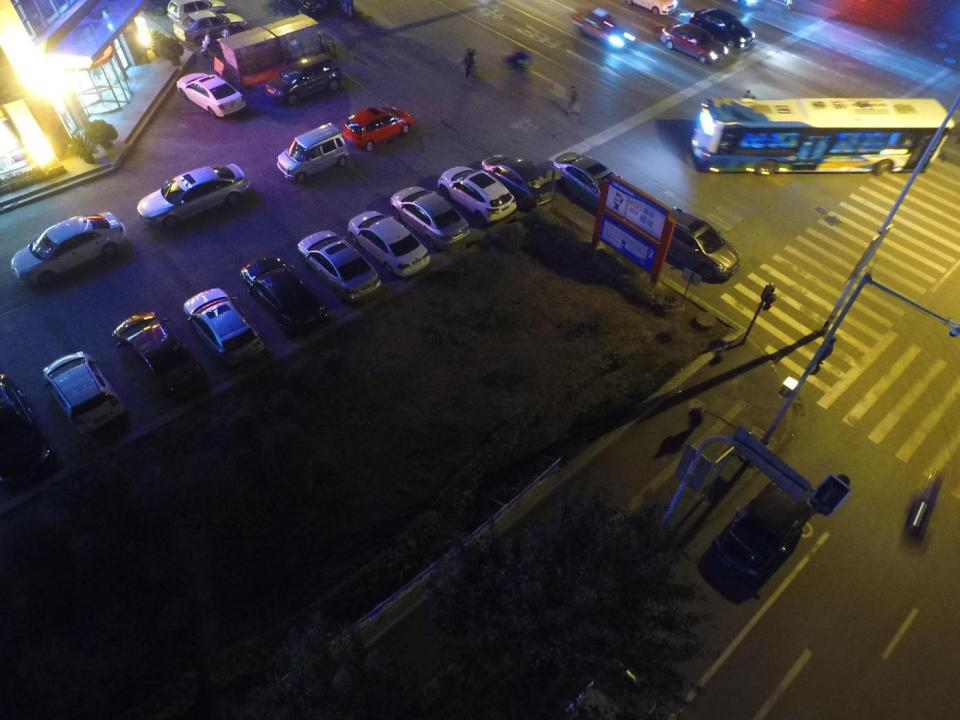bus: (690, 96, 956, 176)
car: (713, 473, 816, 580), (8, 209, 127, 285), (136, 162, 253, 230), (240, 255, 330, 341), (112, 312, 202, 394), (181, 287, 267, 372), (41, 353, 125, 433), (297, 231, 382, 306), (657, 209, 742, 283), (0, 372, 56, 483), (348, 211, 431, 280), (391, 186, 468, 250), (439, 168, 520, 226), (554, 153, 625, 219), (274, 124, 350, 184), (258, 54, 343, 107), (482, 154, 556, 209), (175, 71, 245, 116), (343, 106, 412, 150), (659, 23, 730, 64), (689, 8, 754, 48), (572, 8, 636, 48), (175, 10, 247, 41), (167, 0, 225, 18), (626, 0, 679, 14)
